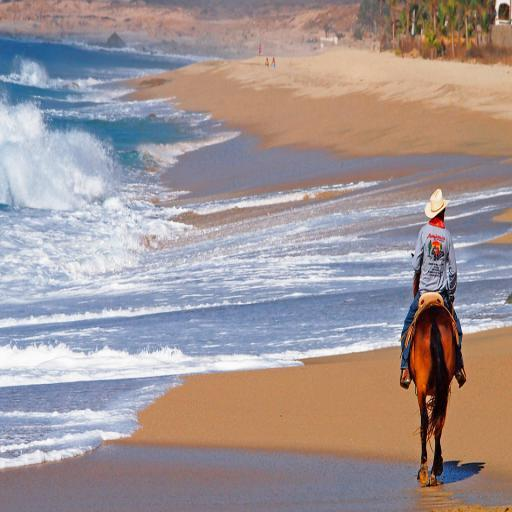Horse: (397, 251, 462, 490)
